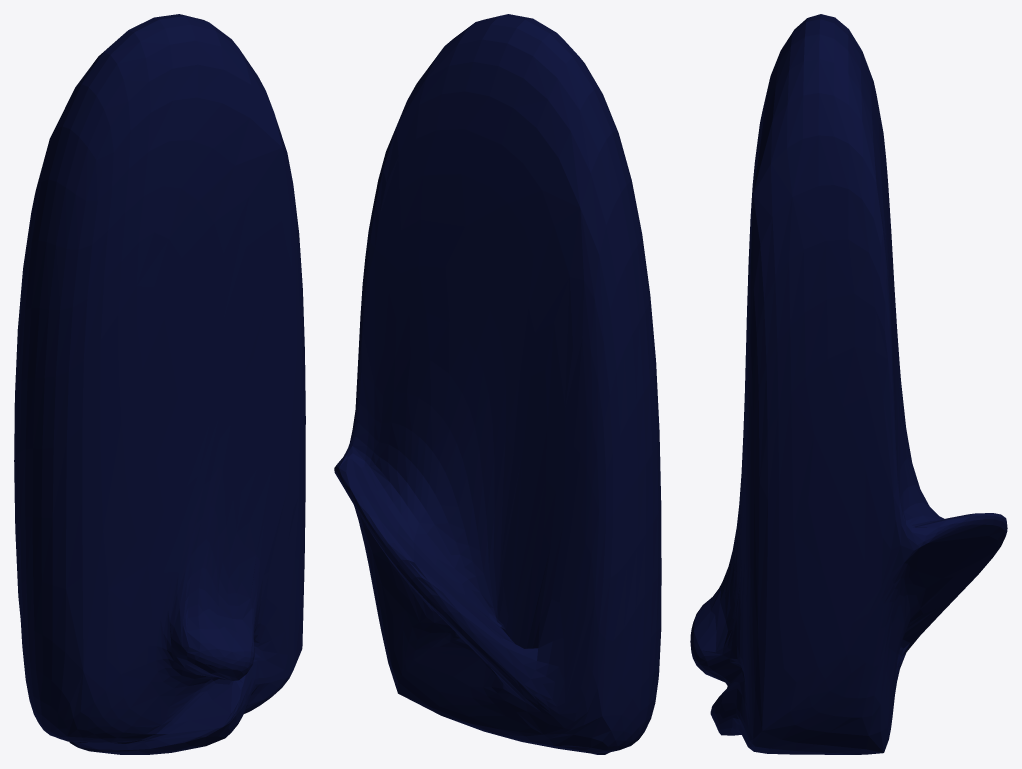
3 views of the same model, side by side, from view 1: azimuth 30°, elevation 25°; view 2: azimuth 150°, elevation 25°; view 3: azimuth 270°, elevation 25° (orthographic). The views are drawn at different scales.
Parts seen in each view (by area): view 1: 556_Cube.2243; view 2: 556_Cube.2243; view 3: 556_Cube.2243.
Boxes of the visible parts, <box> form: 556_Cube.2243: <box>14,14,305,754</box>; 556_Cube.2243: <box>334,14,661,754</box>; 556_Cube.2243: <box>690,14,1007,754</box>.
Bounding box in the file's own units: 4.57 × 11.61 × 4.56.
